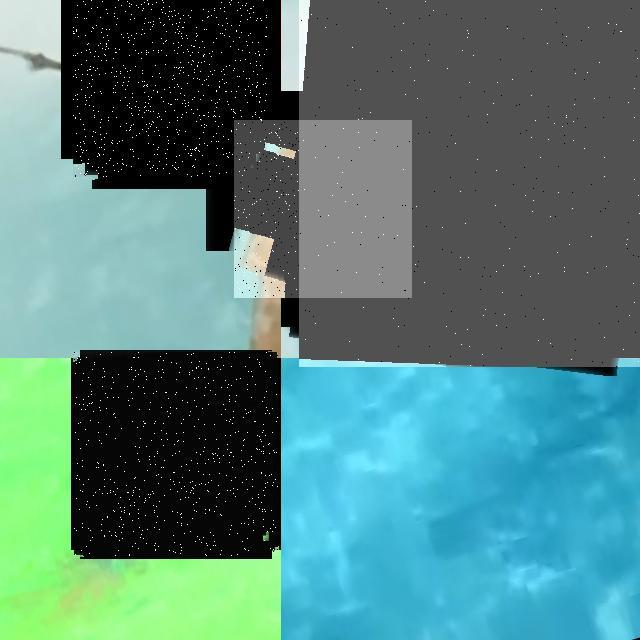3: (234, 120, 412, 298)
6: (74, 352, 278, 556)
drowning: (299, 0, 640, 367), (73, 0, 267, 177)
